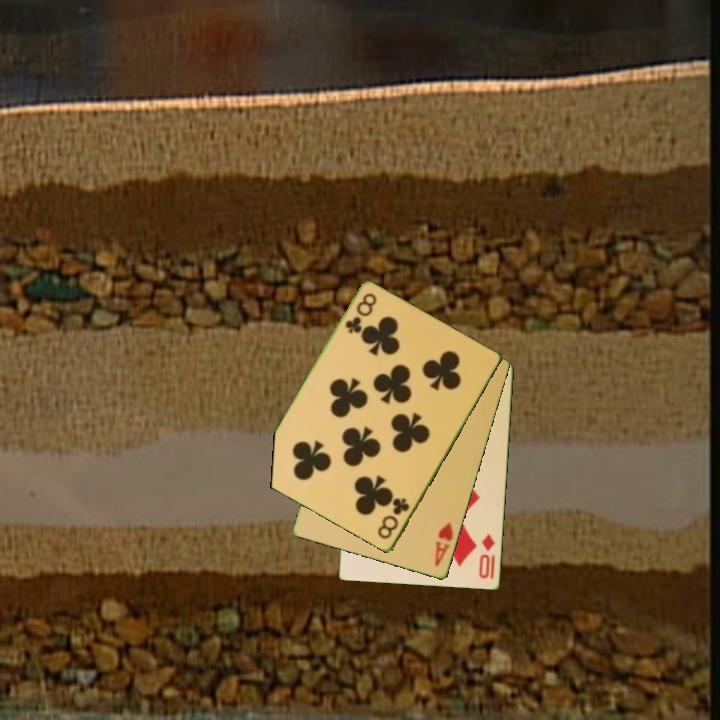10d: (475, 531, 498, 582)
8c: (374, 495, 413, 543), (342, 290, 380, 337)
Ah: (431, 519, 456, 569)
